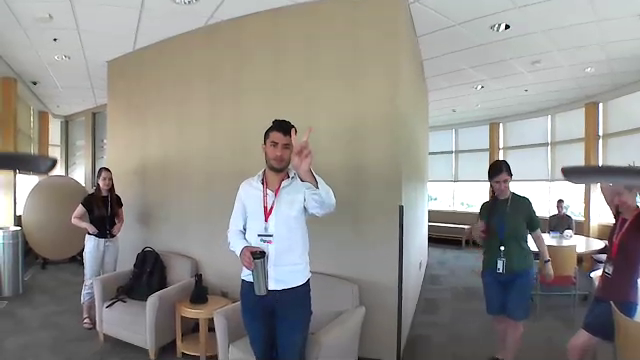peace: (283, 119, 318, 179)
